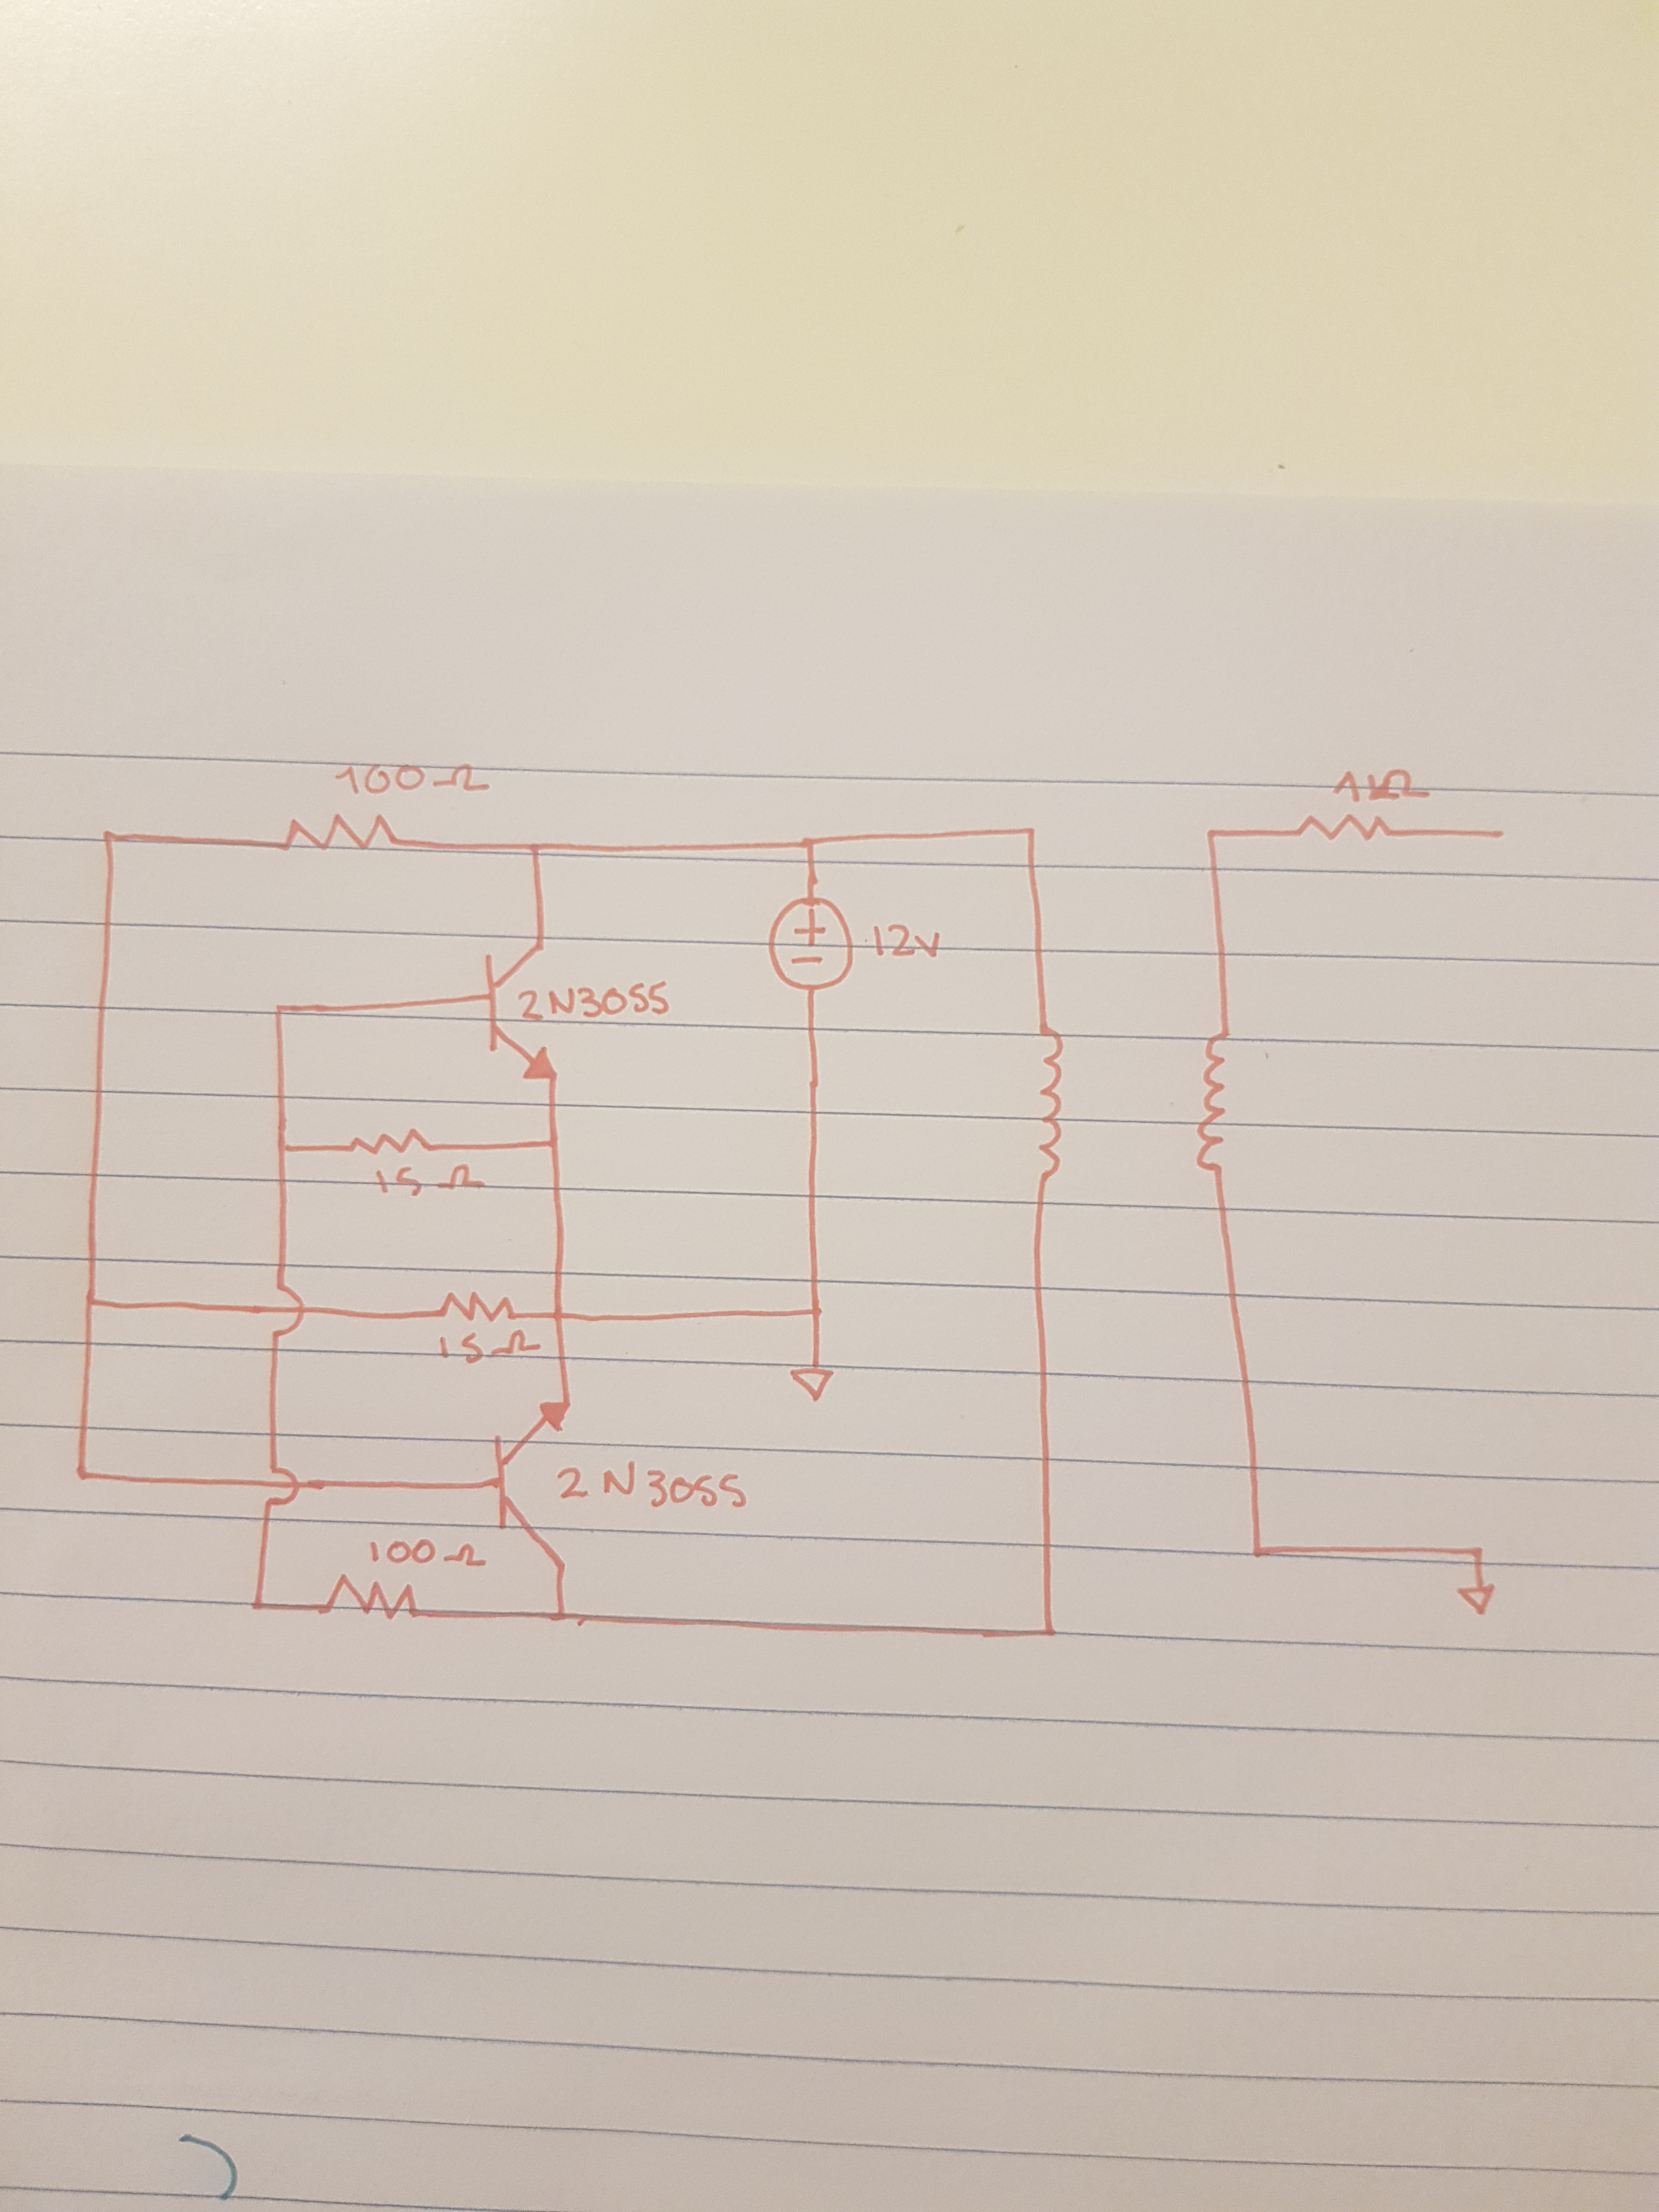crossover: (267, 1280, 310, 1345), (256, 1461, 305, 1517)
gnd: (784, 1364, 842, 1406), (1455, 1583, 1500, 1620)
junction: (1241, 1533, 1272, 1575), (66, 1454, 96, 1491), (1460, 1538, 1493, 1569), (1028, 1616, 1063, 1646), (1012, 819, 1042, 850), (242, 1590, 272, 1622), (547, 1602, 575, 1635), (798, 1296, 830, 1324), (96, 822, 124, 853), (519, 836, 552, 862), (267, 1134, 295, 1163), (77, 1284, 105, 1313), (1202, 822, 1229, 852), (540, 1132, 568, 1158), (796, 834, 823, 860), (545, 1306, 572, 1331), (268, 998, 293, 1024)
resistor: (310, 1569, 434, 1630), (281, 808, 410, 862), (1293, 806, 1401, 850), (434, 1287, 526, 1334), (342, 1122, 443, 1160)
terminal: (1480, 819, 1511, 846)
text: (554, 1463, 756, 1519), (518, 981, 674, 1024), (335, 759, 490, 801), (362, 1540, 486, 1580), (1328, 765, 1439, 808), (373, 1167, 491, 1198), (432, 1331, 542, 1364), (871, 921, 941, 961)
transformer: (1021, 1014, 1244, 1191)
transistor: (486, 1397, 579, 1569), (479, 937, 570, 1089)
voltage.dc: (763, 895, 861, 996)
